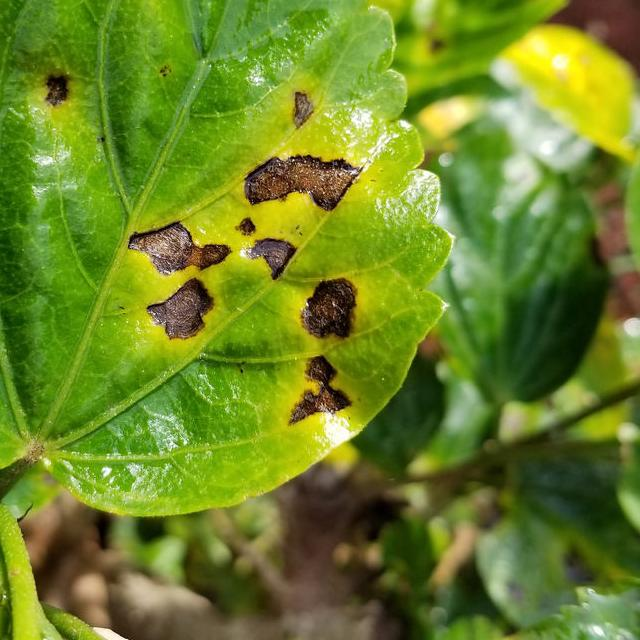Tomato leaf bacterial spot: (0, 0, 471, 518)
